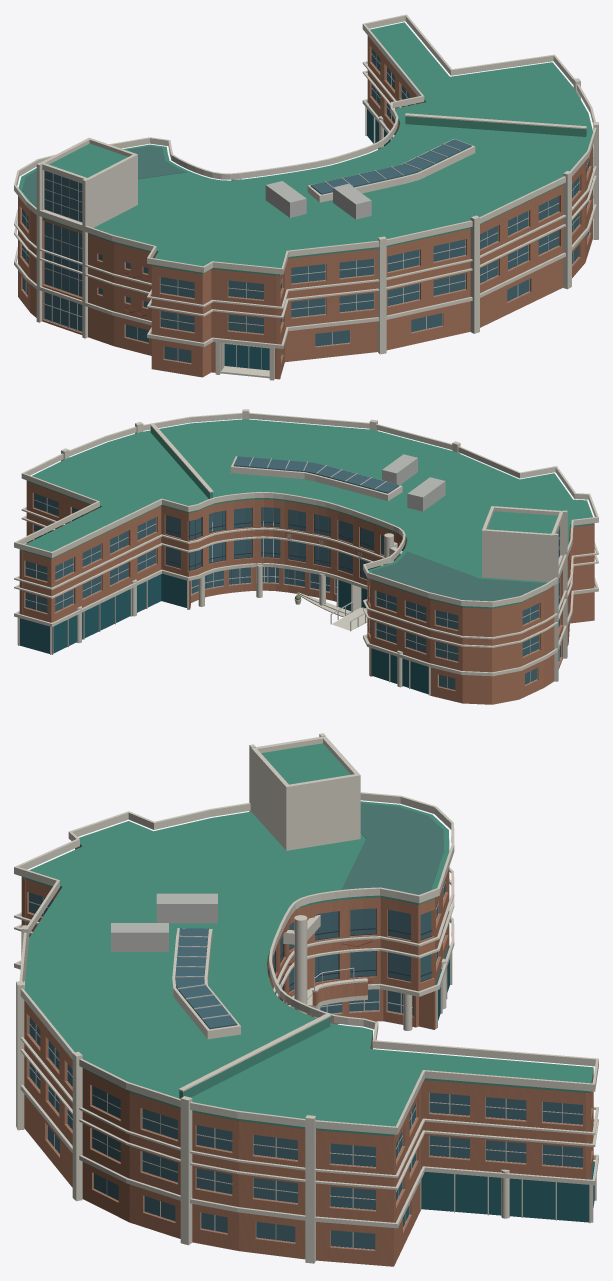
The picture shows the model from 3 angles, top to bottom: view 1: azimuth 30°, elevation 25°; view 2: azimuth 150°, elevation 25°; view 3: azimuth 270°, elevation 25°; orthographic projection. The views are drawn at different scales.
Parts seen in each view (by area): view 1: roof, brick, cream, glass, music-frame-pole, frame, musicRoofWest, artglass, music-lobby-pole; view 2: roof, brick, cream (×2), glass, artglass, musicRoofWest, music-frame-pole (×2), frame, dark; view 3: roof, brick, cream, glass, music-frame-pole (×2), musicRoofWest, artglass, frame, dark.
Boxes of the visible parts, <box> form: roof: <box>18,22,592,275</box>; brick: <box>18,35,592,379</box>; cream: <box>14,14,596,363</box>; glass: <box>22,48,589,362</box>; music-frame-pole: <box>36,78,598,380</box>; frame: <box>43,144,460,369</box>; musicRoofWest: <box>22,146,186,206</box>; artglass: <box>224,104,390,370</box>; music-lobby-pole: <box>220,342,269,378</box>; roof: <box>19,419,594,608</box>; brick: <box>19,481,594,704</box>; cream (×2): <box>14,412,598,695</box>; glass: <box>25,456,560,689</box>; artglass: <box>19,573,428,694</box>; musicRoofWest: <box>372,551,546,601</box>; music-frame-pole (×2): <box>61,409,567,681</box>; frame: <box>191,454,561,663</box>; dark: <box>165,508,384,634</box>; roof: <box>21,743,593,1136</box>; brick: <box>21,847,593,1266</box>; cream: <box>14,736,598,1249</box>; glass: <box>29,879,582,1249</box>; music-frame-pole (×2): <box>16,733,412,1263</box>; musicRoofWest: <box>341,803,443,894</box>; artglass: <box>421,945,594,1222</box>; frame: <box>111,893,412,1019</box>; dark: <box>268,908,432,1001</box>.
Size of the model in its own units: 52.18 by 14.35 by 38.25.
16 materials, 5 textured.
